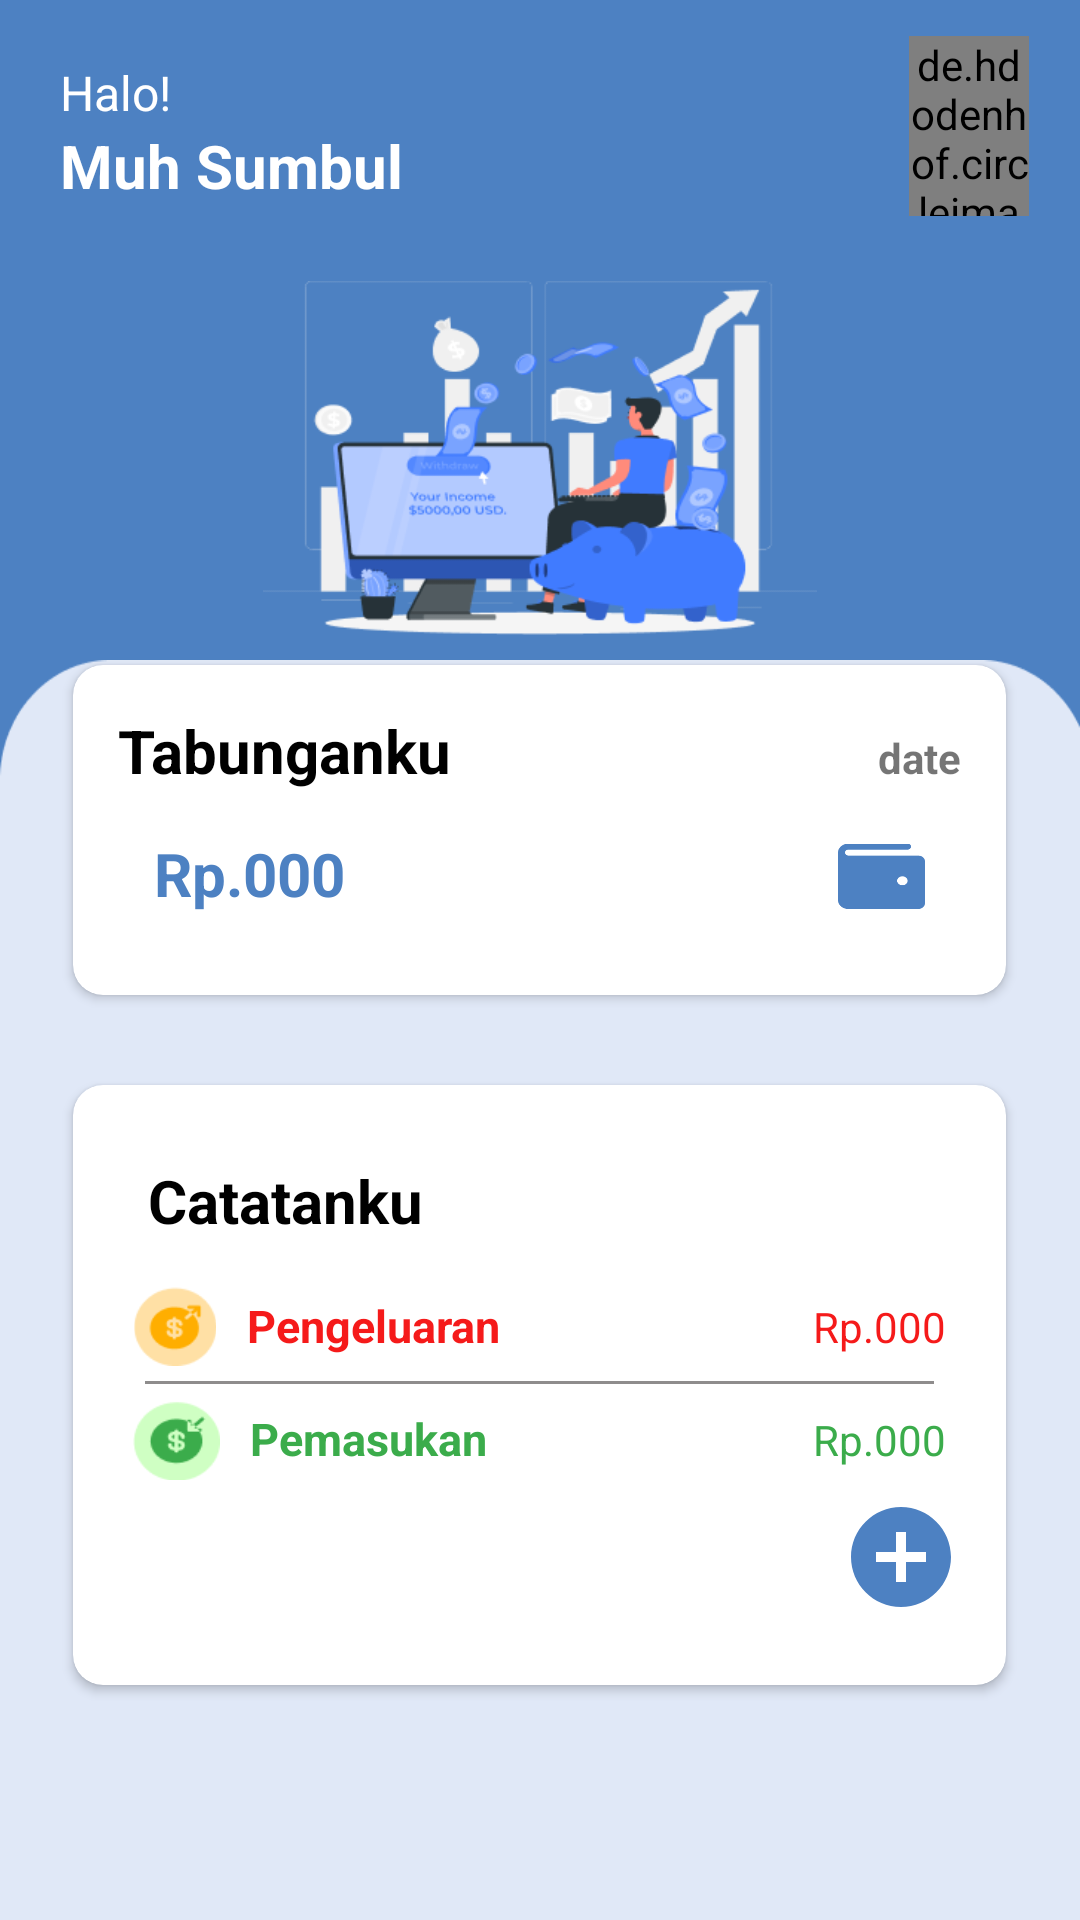

Point at icon controls on the screen. Image size 1080×1920, points as (x,y).
add circle: (901,1557)
dollar: (175,1327), (177,1441)
